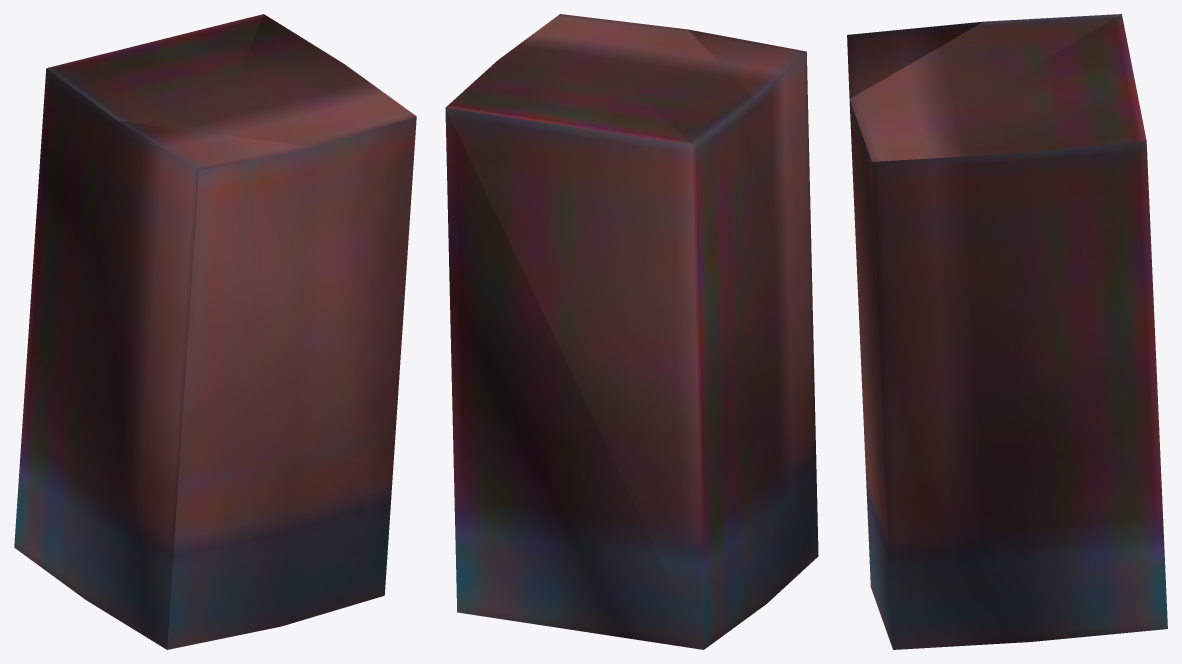
Rendered from sharpener.glb.
3 views of the same model, side by side, from view 1: azimuth 30°, elevation 25°; view 2: azimuth 150°, elevation 25°; view 3: azimuth 270°, elevation 25° (orthographic). The views are drawn at different scales.
Parts seen in each view (by area): view 1: sharpener; view 2: sharpener; view 3: sharpener.
Part boxes in pixels (left/top/right/bottom): sharpener: left=14, top=14, right=416, bottom=649; sharpener: left=445, top=14, right=818, bottom=649; sharpener: left=847, top=14, right=1167, bottom=649.
Bounding box in the file's own units: 0.6581 × 1.16 × 0.6498.
Materials: 1 (1 with a texture image).
